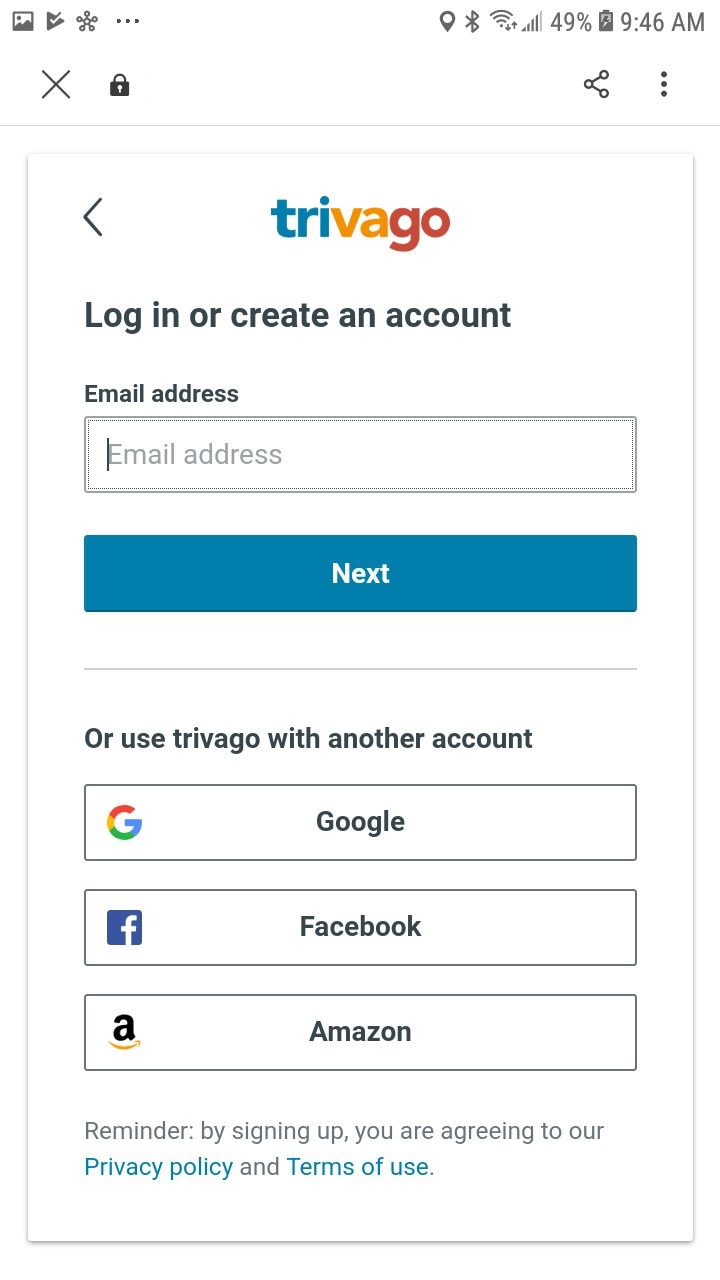EditText: (85, 416, 638, 494)
Icon: (42, 70, 72, 100), (84, 197, 104, 238), (583, 70, 610, 100), (110, 73, 131, 97), (660, 72, 668, 99)
Image: (270, 196, 451, 253)
Text: (85, 1120, 605, 1181), (87, 300, 512, 335), (85, 726, 532, 755), (108, 443, 282, 465), (86, 384, 240, 404)
TextButton: (85, 993, 638, 1072), (84, 535, 638, 613), (85, 784, 638, 862), (85, 889, 638, 967)
UpperTaskBar: (1, 1, 720, 35)
